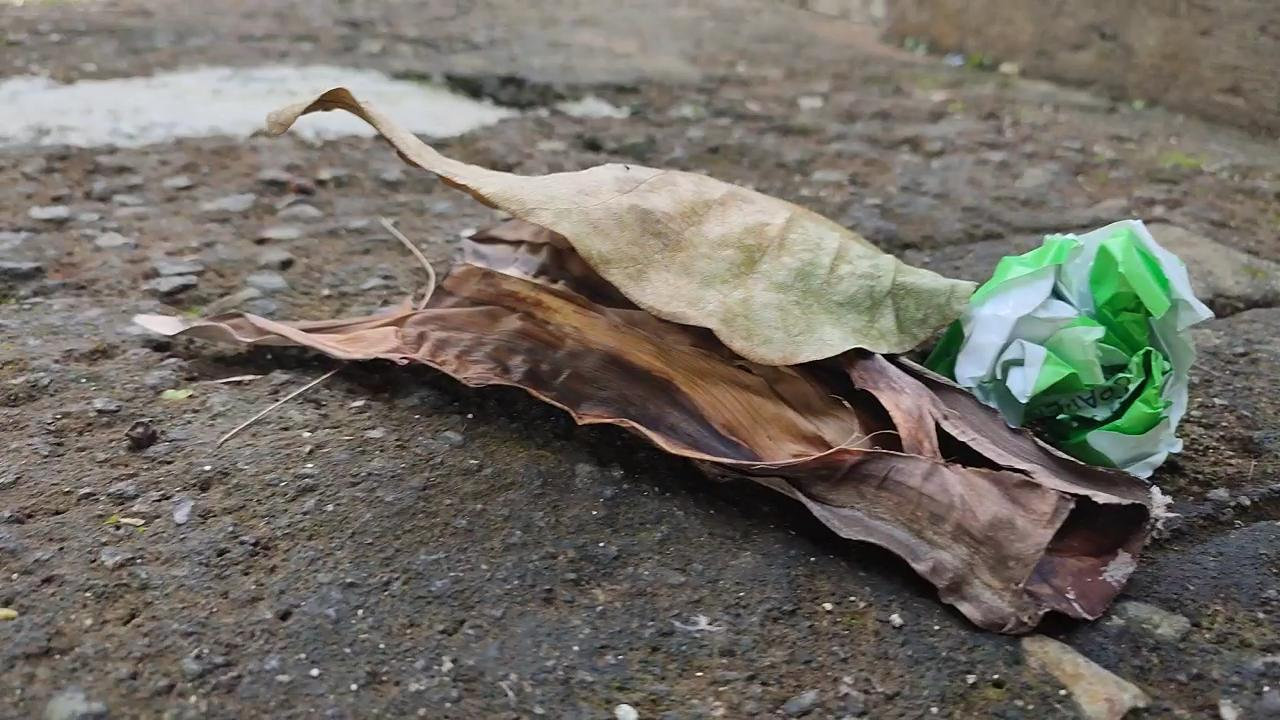Paper: (951, 197, 1211, 482)
